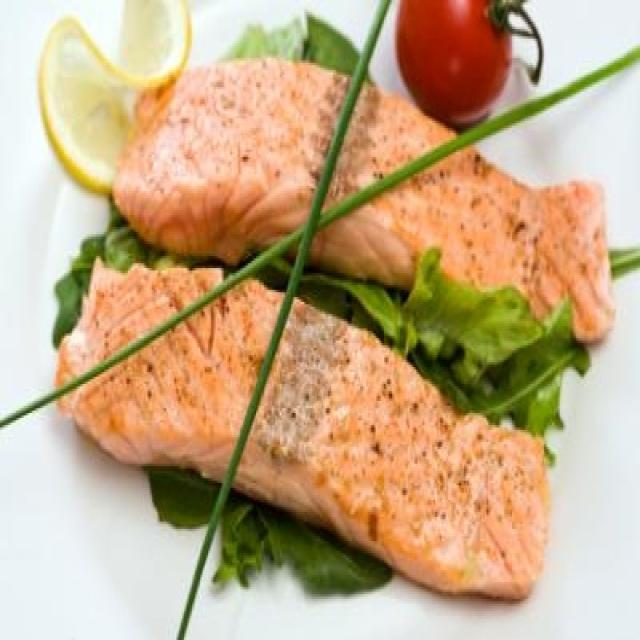熟制海鲜: (18, 22, 627, 626)
